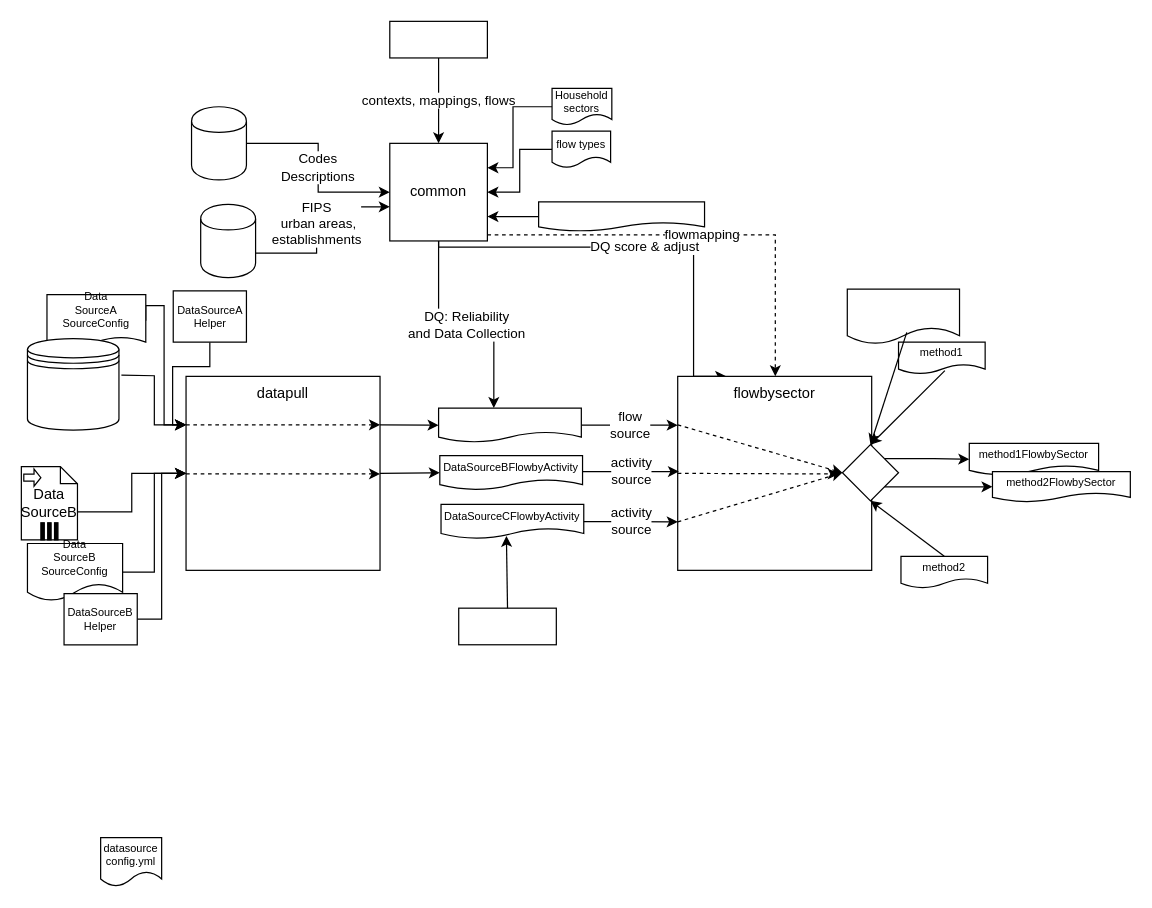
Image size: 1152x908. Some labels were removed from this diagram. The centre of each missing label's shape, as x and y in pixels:
"Census" belongs at (x=227, y=240).
"data quality scoring rubric" belongs at (x=621, y=216).
"Data SourceA" belongs at (x=72, y=383).
"DataSourceA-Acitivityto Sector Mapping.csv" belongs at (x=903, y=316).
"DataSourceAFlowbyActivity" belongs at (x=509, y=424).
"fedelemflowlist" belongs at (x=438, y=39).
"NAICS" belongs at (x=218, y=143).
"stewi" belongs at (x=507, y=626).
